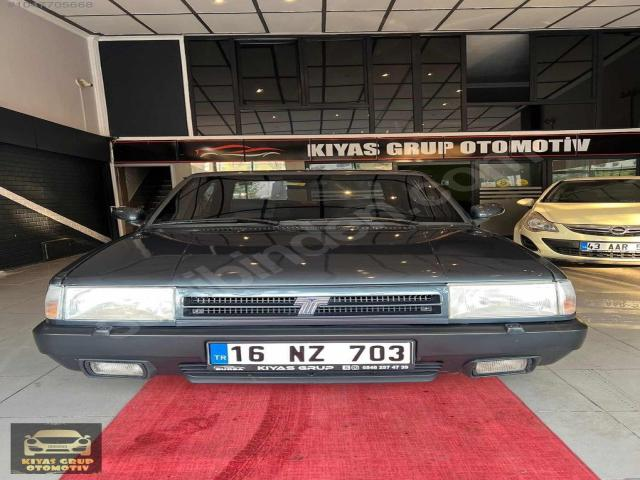plaka: (207, 340, 415, 370)
